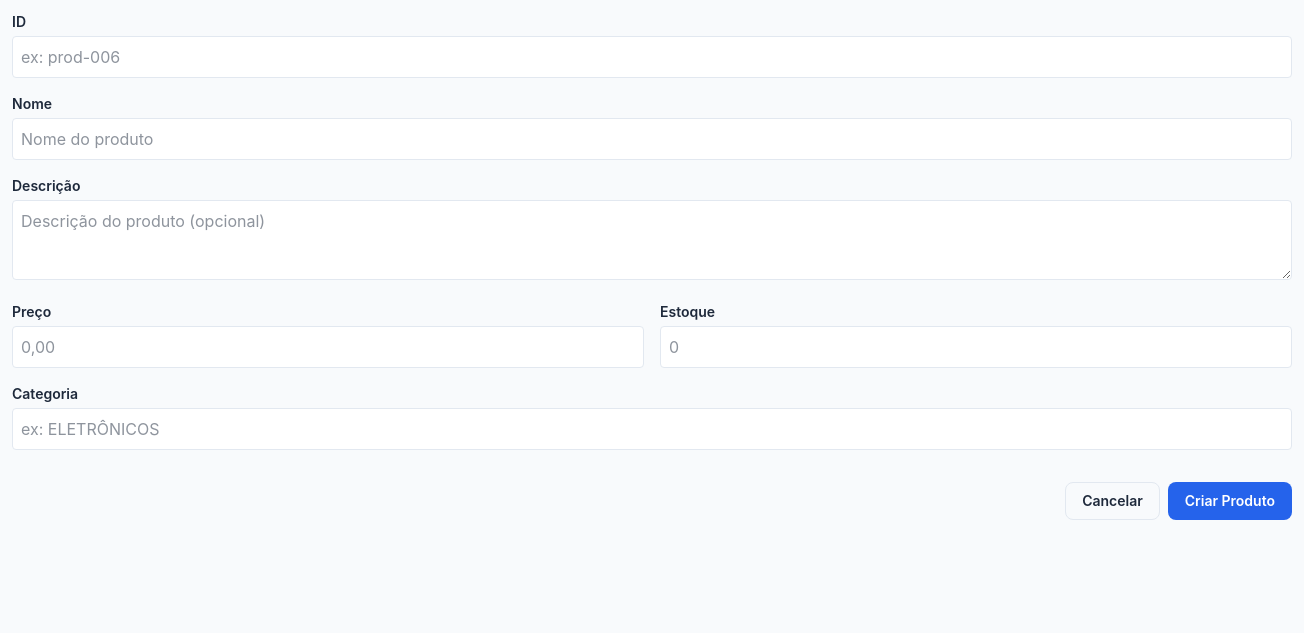
ProductForm › validação › deve exibir erro quando o preço é zero
Type "0" into the field labelled "Preço" at (328, 347), box [12,326,644,368]
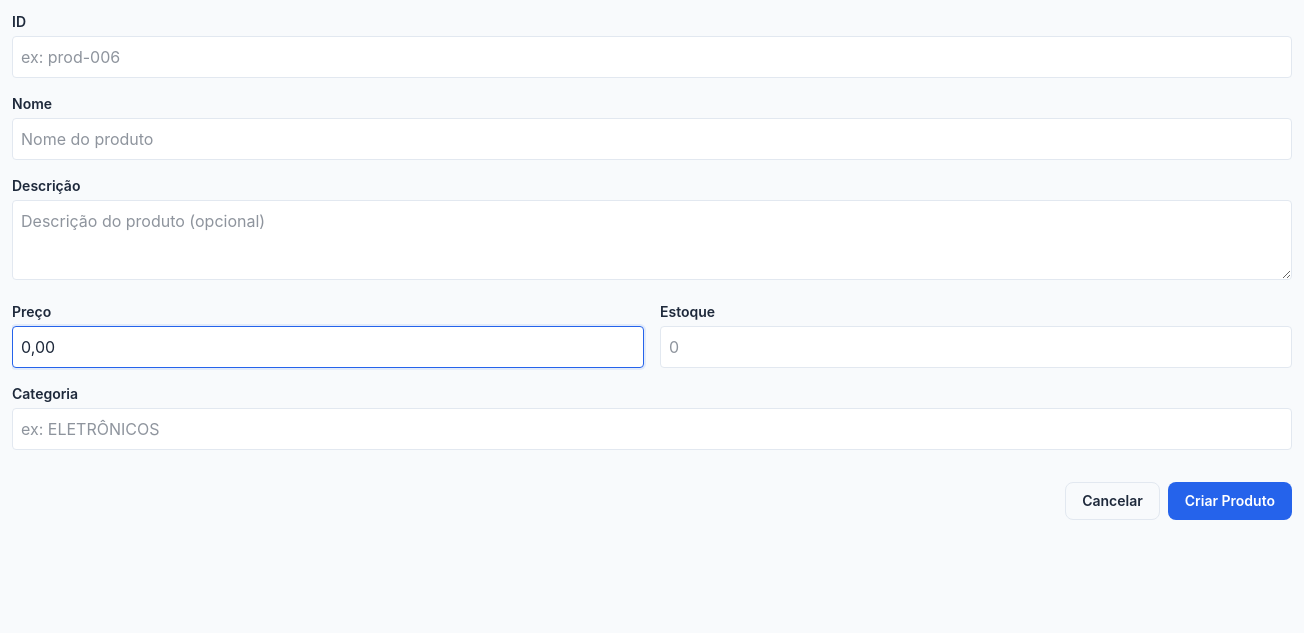
Click the button "Criar Produto" at (1230, 501), box [1168,482,1292,520]
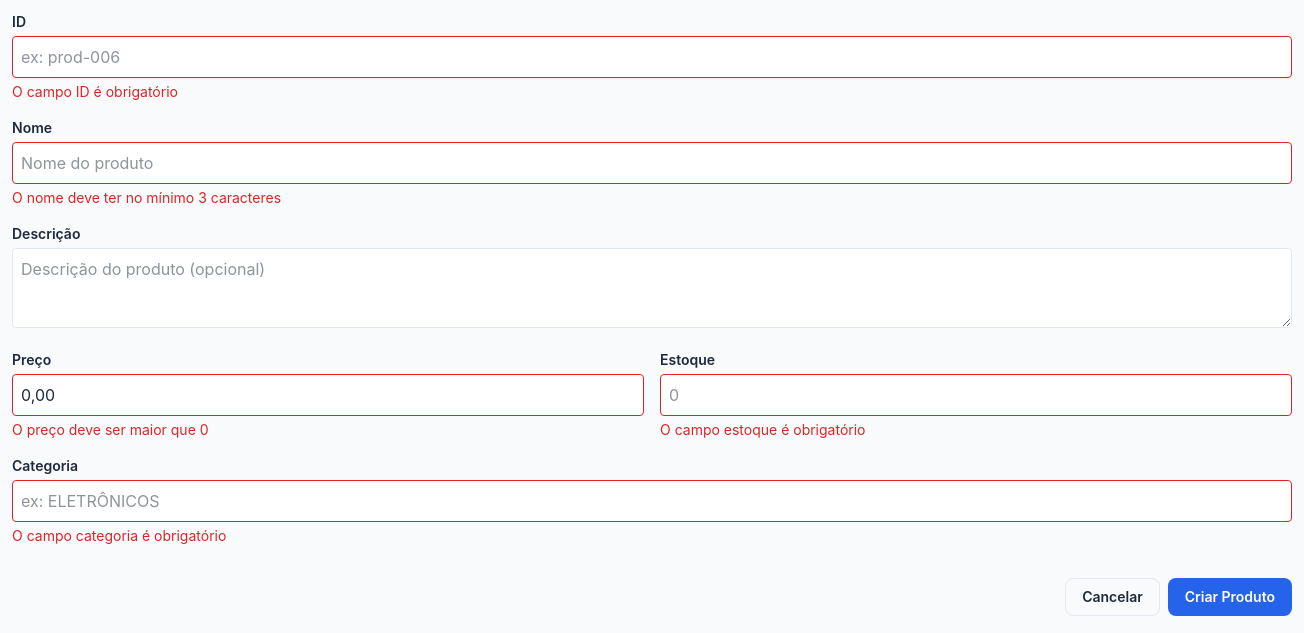
Now the text "O preço deve ser maior que 0" is shown, box [12,421,209,438]
